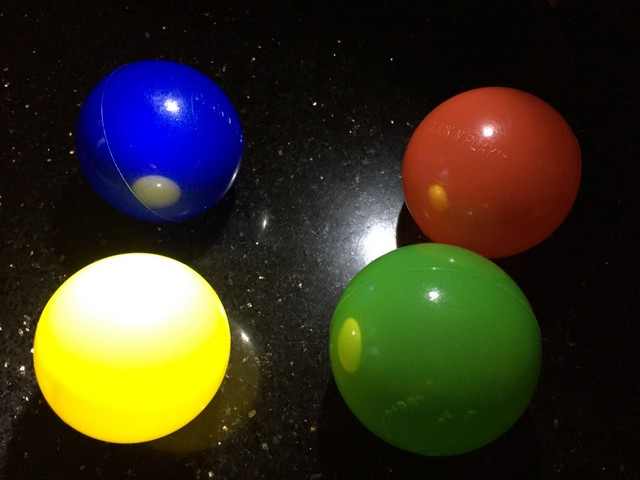Ball: (327, 243, 541, 453)
